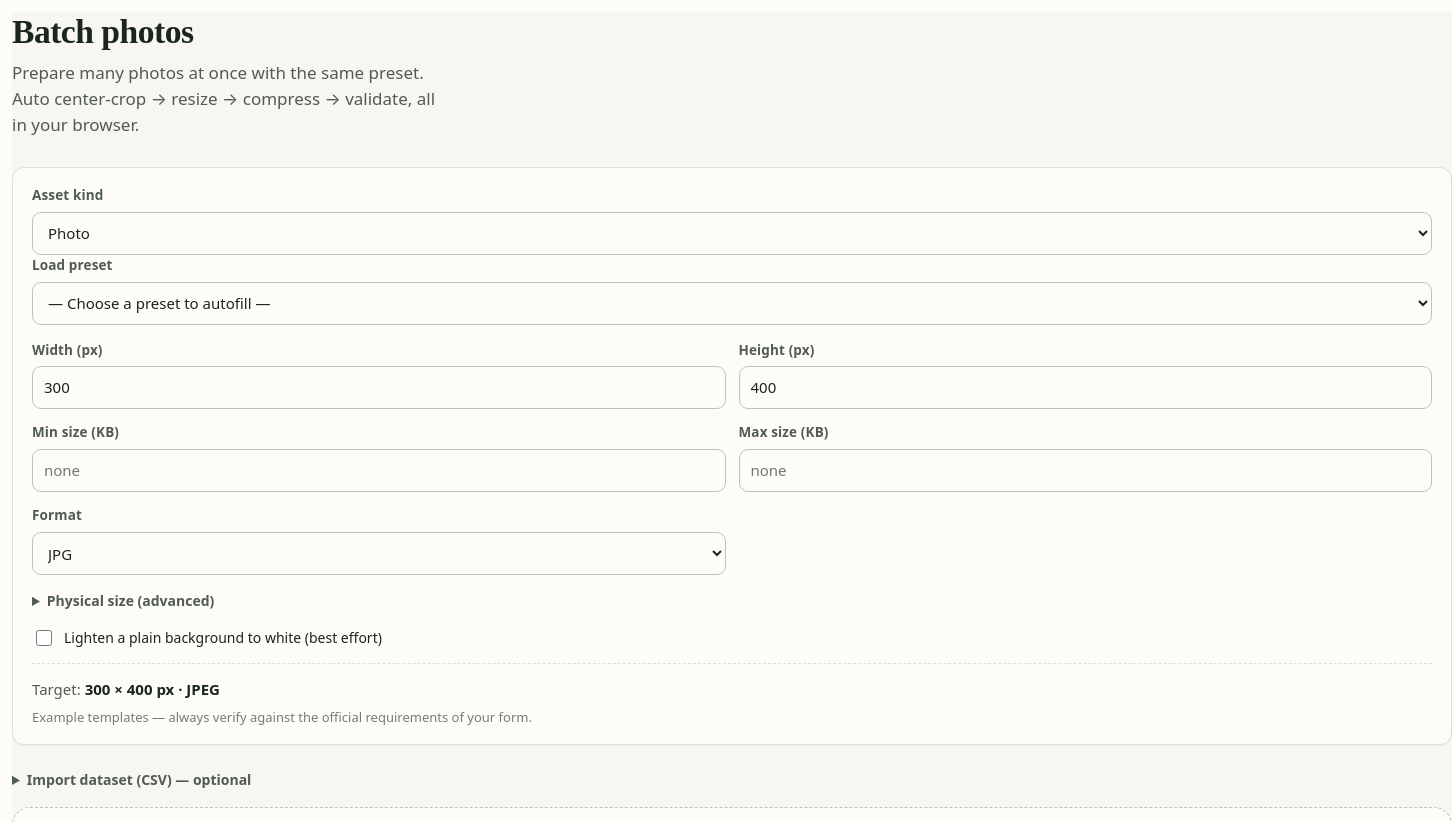
BatchView (T026) › switches to thumb kind and shows thumb target
Select "Thumb impression" in the dropdown named "Batch asset kind" at (732, 233), box [32, 212, 1432, 255]
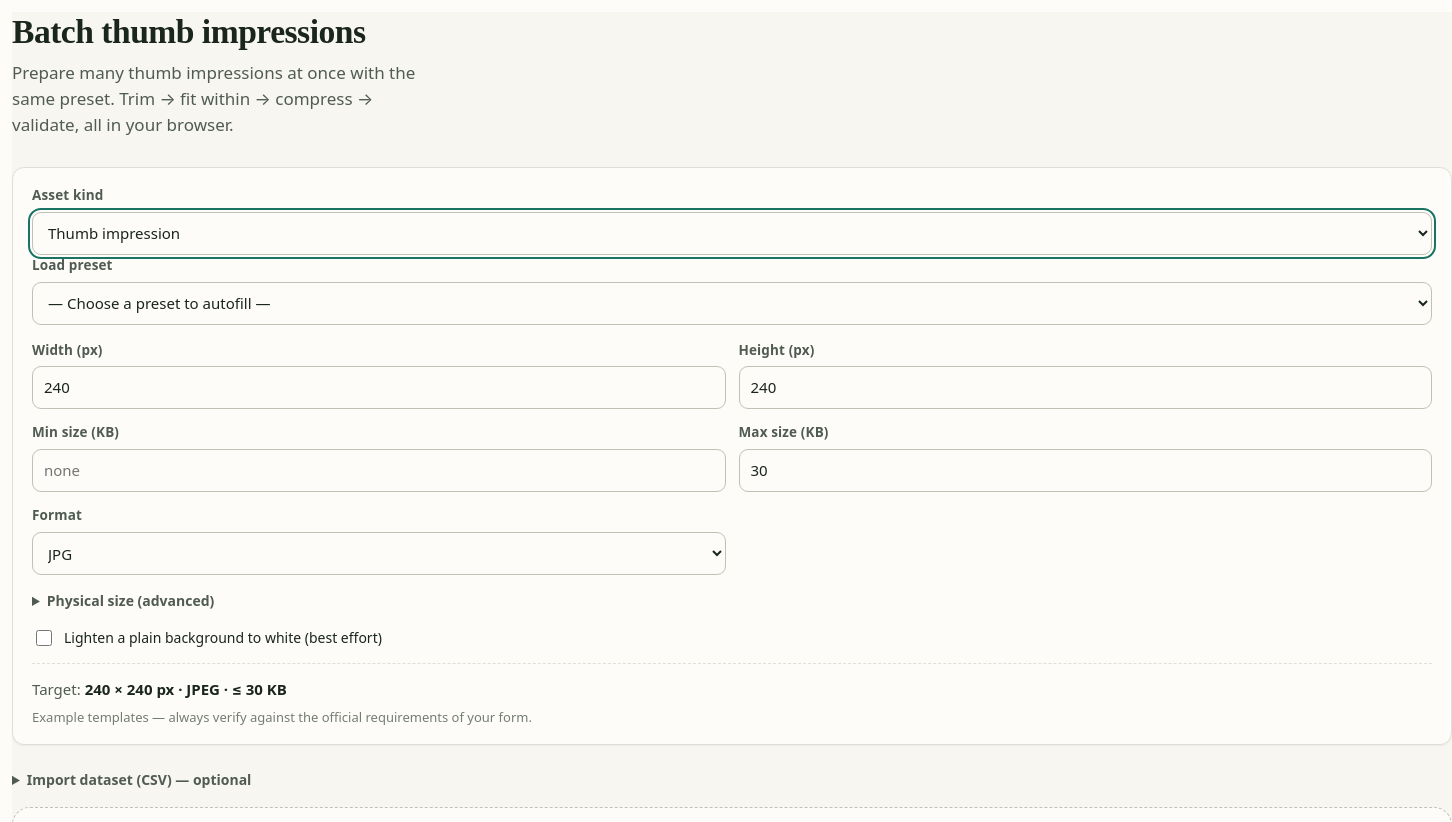
Expected: the text "Target: 240 × 240 px · JPEG · ≤ 30 KB" is shown, [32, 663, 1432, 701]
